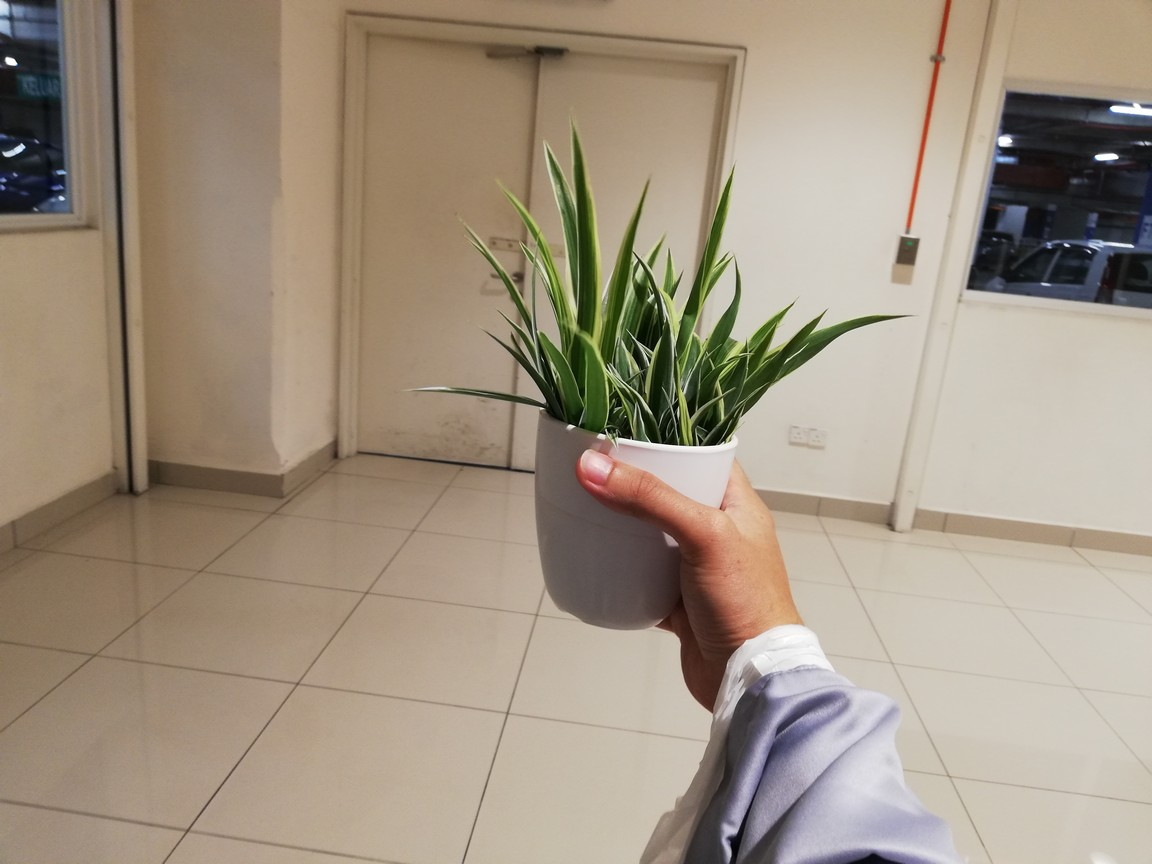daun: (455, 212, 517, 281), (396, 388, 536, 410), (824, 316, 920, 347), (707, 157, 738, 247), (562, 105, 590, 199), (618, 176, 653, 249), (494, 176, 537, 234), (541, 136, 570, 220), (632, 249, 665, 311), (537, 329, 569, 379), (791, 307, 830, 339), (661, 385, 679, 443), (727, 255, 743, 319), (685, 344, 708, 388), (625, 328, 650, 366), (701, 387, 738, 412), (753, 320, 780, 353), (633, 399, 651, 447), (480, 325, 509, 354), (769, 298, 801, 324), (648, 232, 668, 268), (516, 237, 536, 272), (663, 245, 675, 290), (495, 306, 518, 327), (605, 425, 622, 451), (508, 330, 523, 358), (672, 267, 685, 299), (716, 249, 733, 269), (718, 255, 736, 273), (708, 343, 724, 360), (605, 359, 619, 373)
